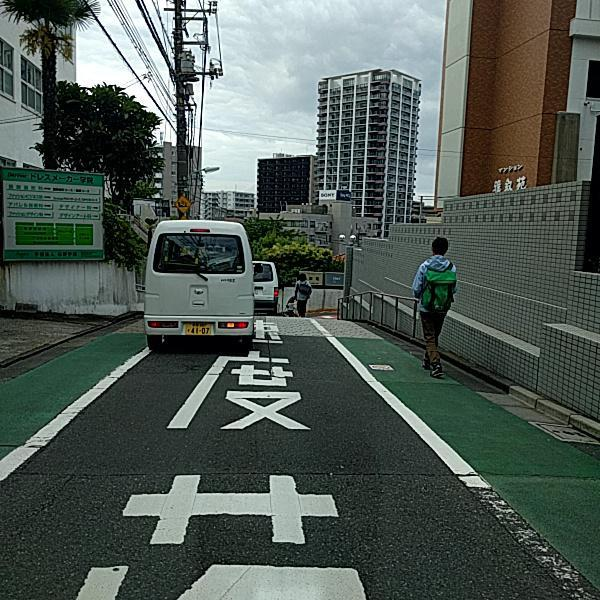D00: (29, 473, 73, 510)
